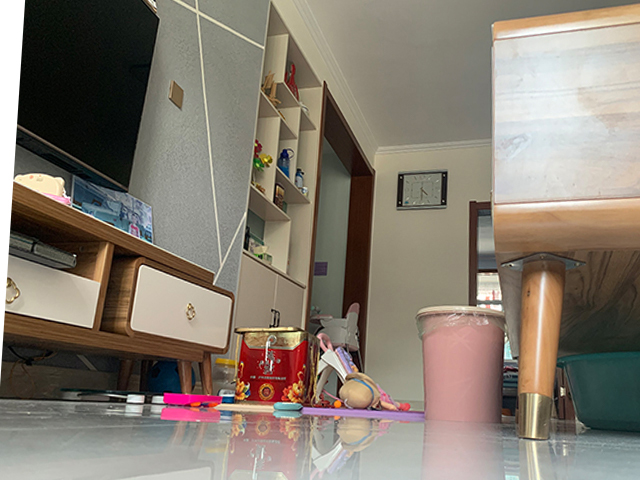cabinet: (4, 182, 235, 399)
table: (488, 2, 640, 442)
trashcan: (416, 304, 507, 426)
